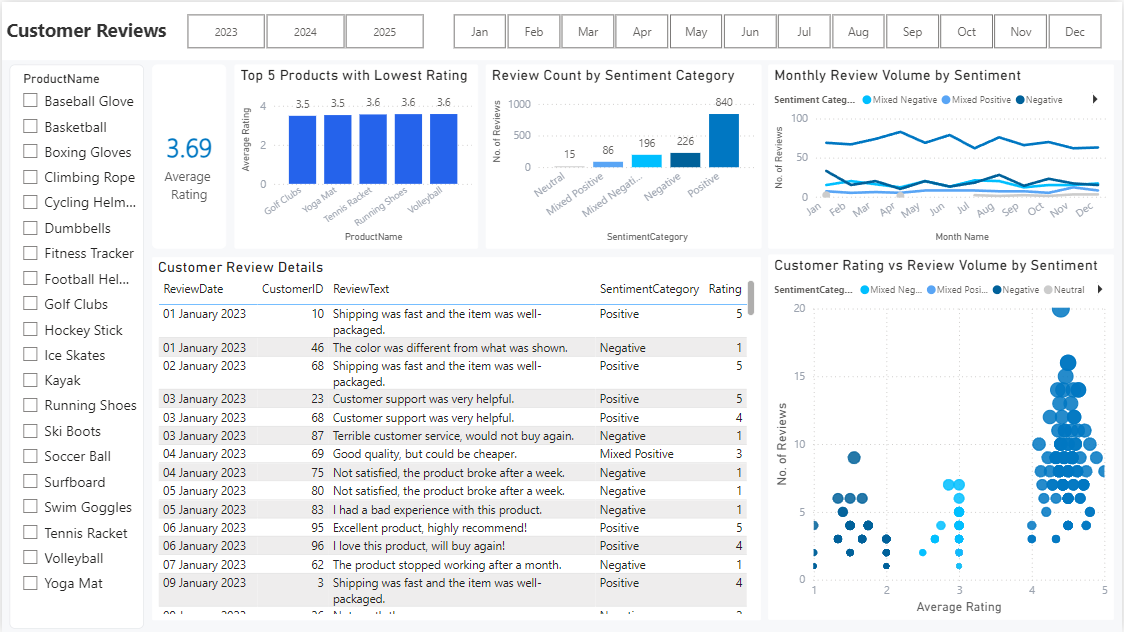

What the dashboard file says about the page in this screenshot:
{"tool":"powerbi","page":{"name":"Customer Reviews","canvas":[1280,720],"ordinal":3},"visuals":[{"type":"textbox","box":[0,0,1280,66.2],"z":0},{"type":"slicer","fields":{"Values":["dim_products.ProductName"]},"box":[8.8,71.2,153.8,645],"z":1000},{"type":"slicer","fields":{"Values":["Calendar.MonthNameShort"]},"box":[490,7.5,790,52.5],"z":2000},{"type":"slicer","fields":{"Values":["Calendar.Year"]},"box":[186.2,7.5,320,52.5],"z":3000},{"type":"card","fields":{"Values":["Calculations.Average Rating"]},"box":[171.2,71.2,85,210],"z":4000},{"type":"clusteredColumnChart","title":"Top 5 Products with Lowest Rating","fields":{"Category":["dim_products.ProductName"],"Y":["Calculations.Average Rating"]},"box":[265,71.2,278.8,210],"z":5000},{"type":"textbox","box":[0,11.2,205,46.2],"z":6000},{"type":"clusteredColumnChart","title":"Review Count by Sentiment Category","fields":{"Y":["Calculations.Number of Custoemr Reviews"],"Category":["fact_customer_reviews_with_sentiment.SentimentCategory"]},"box":[552.5,71.2,315,210],"z":7000},{"type":"lineChart","title":"Monthly Review Volume by Sentiment","fields":{"Category":["Calendar.MonthNameShort"],"Y":["Calculations.Number of Customer Reviews"],"Series":["fact_customer_reviews_with_sentiment.SentimentCategory"]},"box":[876.2,71.2,395,210],"z":8000},{"type":"tableEx","title":"Customer Review Details","fields":{"Values":["fact_customer_reviews_with_sentiment.ReviewDate","fact_customer_reviews_with_sentiment.CustomerID","fact_customer_reviews_with_sentiment.ReviewText","fact_customer_reviews_with_sentiment.SentimentCategory","fact_customer_reviews_with_sentiment.Rating"]},"box":[171.2,291.2,696.2,415],"z":9000},{"type":"scatterChart","title":"Customer Rating vs Review Volume by Sentiment","fields":{"X":["Calculations.Average Rating"],"Y":["Calculations.Number of Customer Reviews"],"Category":["dim_customers.CustomerID"],"Series":["fact_customer_reviews_with_sentiment.SentimentCategory"],"Size":["Calculations.Number of Customer Reviews"]},"box":[876.2,288.8,395,417.5],"z":10000}]}

Visuals, with their boxes in screenshot pixels (x1, y1, x2, y2), scaled from the page's 1280x720 canvas onto the 1124x632 screenshot:
textbox: x1=0, y1=0, x2=1123, y2=58
slicer - dim_products.ProductName: x1=8, y1=62, x2=143, y2=629
slicer - Calendar.MonthNameShort: x1=430, y1=7, x2=1123, y2=53
slicer - Calendar.Year: x1=164, y1=7, x2=445, y2=53
card - Calculations.Average Rating: x1=150, y1=62, x2=225, y2=247
"Top 5 Products with Lowest Rating" clusteredColumnChart: x1=233, y1=62, x2=478, y2=247
textbox: x1=0, y1=10, x2=180, y2=50
"Review Count by Sentiment Category" clusteredColumnChart: x1=485, y1=62, x2=762, y2=247
"Monthly Review Volume by Sentiment" lineChart: x1=769, y1=62, x2=1116, y2=247
"Customer Review Details" tableEx: x1=150, y1=256, x2=762, y2=620
"Customer Rating vs Review Volume by Sentiment" scatterChart: x1=769, y1=254, x2=1116, y2=620
